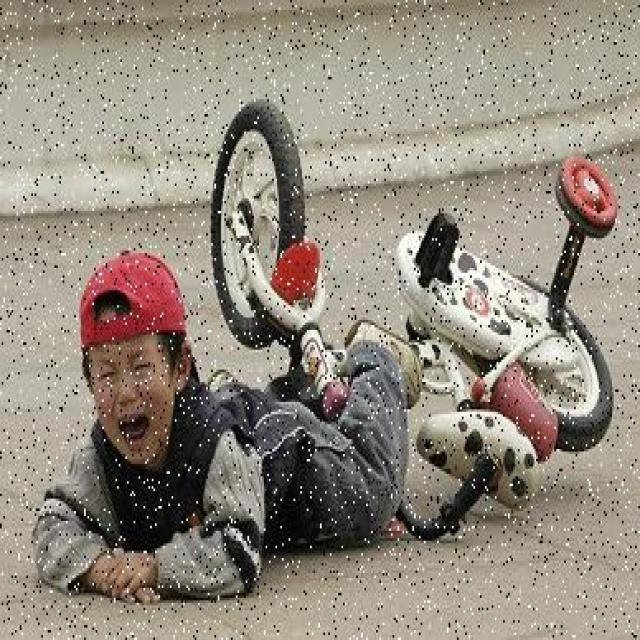fall: (36, 253, 411, 585)
